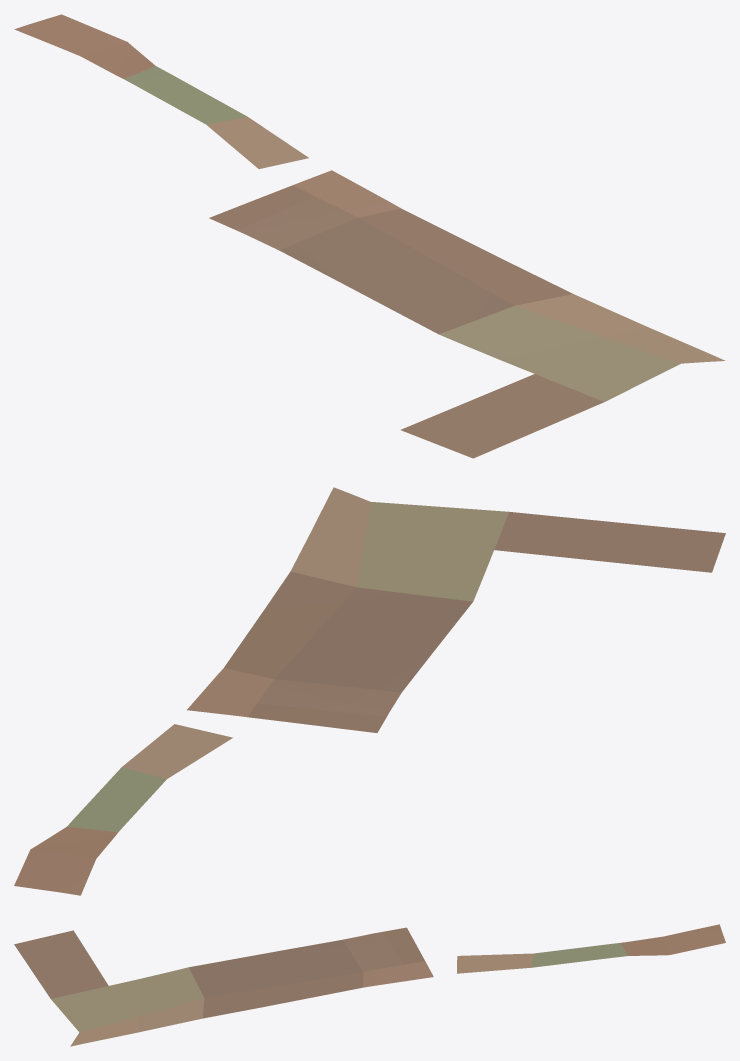
The model's file is farm_40_34_soil.glb.
3 renders of one model, top to bottom at view 1: azimuth 30°, elevation 25°; view 2: azimuth 150°, elevation 25°; view 3: azimuth 270°, elevation 25°, orthographic. The views are drawn at different scales.
Visible parts, largest first — view 1: geometry_0; view 2: geometry_0; view 3: geometry_0.
Part boxes in pixels (box(x1,y1,x2,y2)): geometry_0: box(14, 14, 725, 458); geometry_0: box(14, 487, 725, 895); geometry_0: box(14, 924, 725, 1046).
Bounding box in the file's own units: 88.53 × 13.91 × 241.
